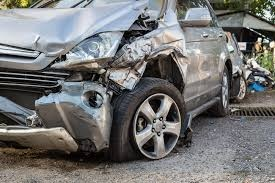Smashed: (12, 12, 191, 157)
